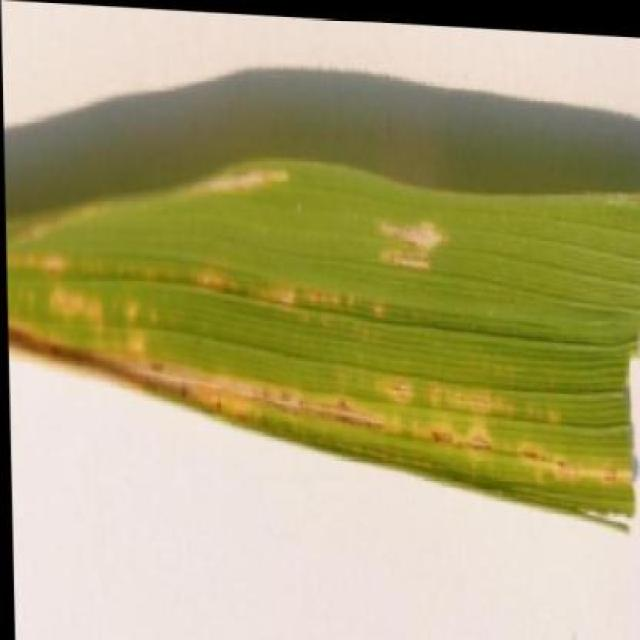Brown_Spot: (1, 138, 640, 524)
